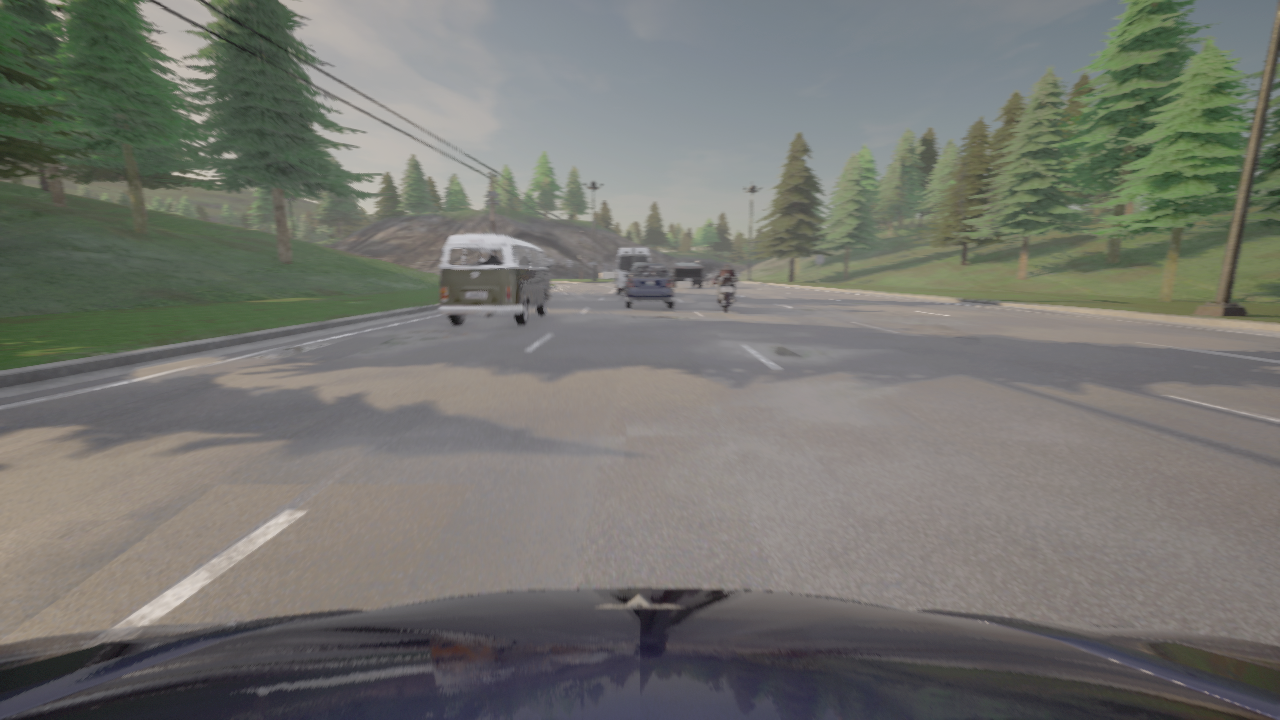cyclist: (0, 588, 1279, 719), (439, 234, 553, 325), (625, 263, 674, 308), (615, 247, 651, 294), (714, 273, 740, 313), (669, 261, 703, 288), (696, 260, 714, 281), (706, 271, 718, 286)
